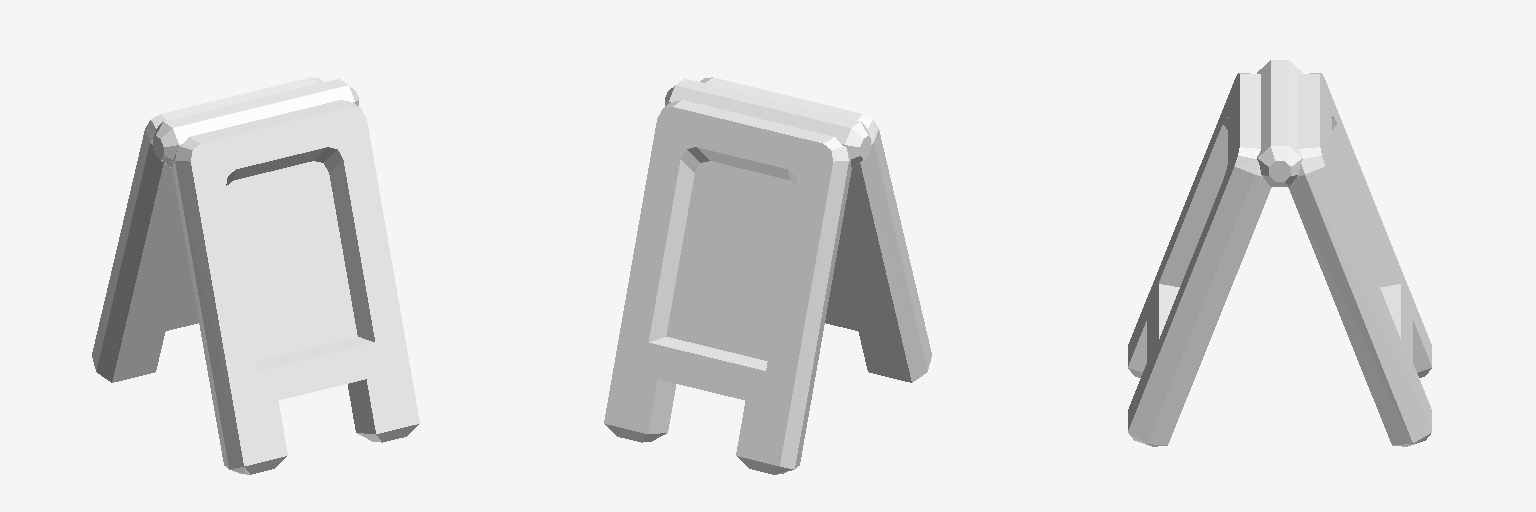
File: sign_ground.obj
The picture shows the model from 3 angles: view 1: azimuth 30°, elevation 25°; view 2: azimuth 150°, elevation 25°; view 3: azimuth 270°, elevation 25°; orthographic projection.
Visible parts, largest first — view 1: sign_ground; view 2: sign_ground; view 3: sign_ground.
Boxes of the visible parts, x1=… form: sign_ground: x1=92, y1=77, x2=419, y2=474; sign_ground: x1=604, y1=77, x2=931, y2=474; sign_ground: x1=1128, y1=60, x2=1431, y2=446.
Size of the model in its own units: 1 by 1.49 by 1.35.